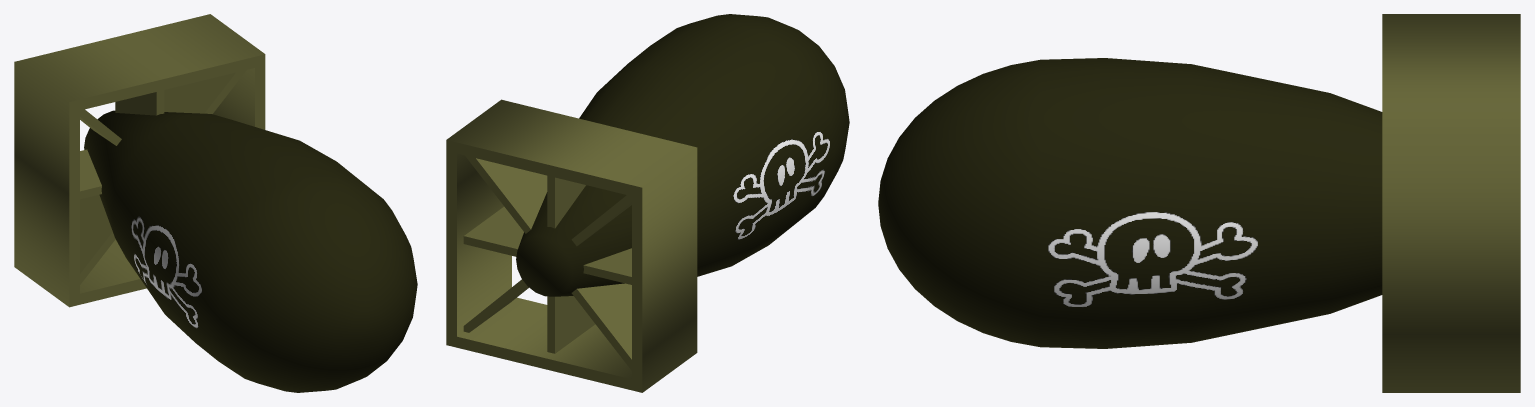
Rendered from bomb.fbx.
The picture shows the model from 3 angles, left to right: view 1: azimuth 30°, elevation 25°; view 2: azimuth 150°, elevation 25°; view 3: azimuth 270°, elevation 25°; orthographic projection. The views are drawn at different scales.
Visible parts, largest first — view 1: pSphere1, pPipe1, pasted__pCube2, pasted__pCube1, pCube1, pasted__pasted__pCube1; view 2: pSphere1, pPipe1, pasted__pCube2, pasted__pCube1, pCube1, pasted__pasted__pCube1; view 3: pSphere1, pPipe1.
Boxes of the visible parts, left/top/right/bottom form: pSphere1: left=84, top=110, right=417, bottom=392; pPipe1: left=14, top=14, right=265, bottom=307; pasted__pCube2: left=80, top=70, right=246, bottom=284; pasted__pCube1: left=115, top=90, right=164, bottom=115; pCube1: left=80, top=149, right=101, bottom=199; pasted__pasted__pCube1: left=80, top=109, right=121, bottom=145; pSphere1: left=516, top=14, right=849, bottom=296; pPipe1: left=446, top=99, right=697, bottom=392; pasted__pCube2: left=465, top=155, right=631, bottom=370; pasted__pCube1: left=547, top=175, right=595, bottom=353; pCube1: left=463, top=206, right=631, bottom=284; pasted__pasted__pCube1: left=463, top=195, right=631, bottom=332; pSphere1: left=878, top=58, right=1382, bottom=348; pPipe1: left=1382, top=14, right=1520, bottom=392.
Size of the model in its own units: 8.47 by 8.47 by 18.55.
Materials: 2 (1 with a texture image).
